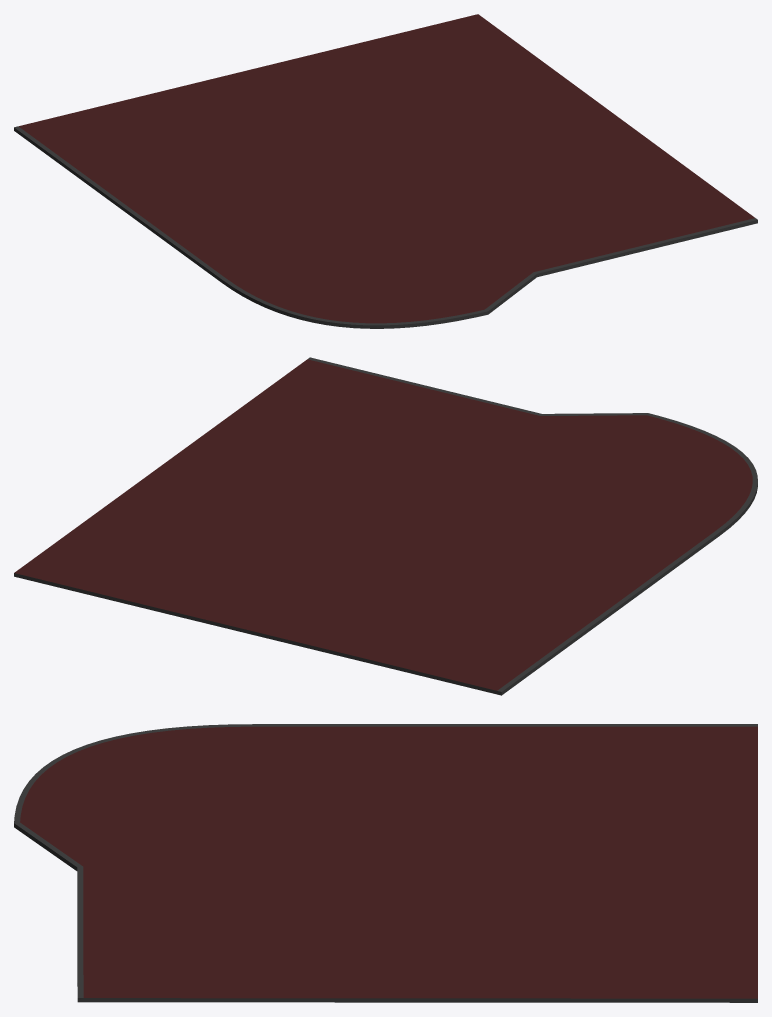
Rendered from Road3.FBX.
The picture shows the model from 3 angles, top to bottom: view 1: azimuth 30°, elevation 25°; view 2: azimuth 150°, elevation 25°; view 3: azimuth 270°, elevation 25°; orthographic projection. The views are drawn at different scales.
Visible parts, largest first — view 1: Object009, Box010; view 2: Object009, Box010; view 3: Object009, Box010.
Part boxes in pixels (x1,y1,x2,y2): Object009: (19, 14, 754, 323); Box010: (14, 126, 757, 328); Object009: (14, 359, 752, 690); Box010: (14, 357, 757, 695); Object009: (20, 726, 757, 998); Box010: (14, 724, 757, 1002).
Bounding box in the file's own units: 3632 × 25.89 × 4160.
